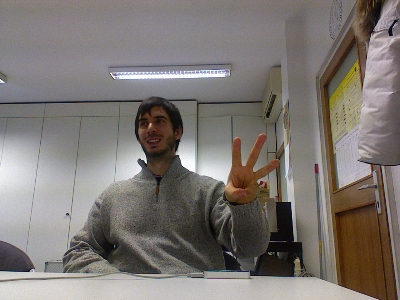三分: (222, 131, 282, 203)
